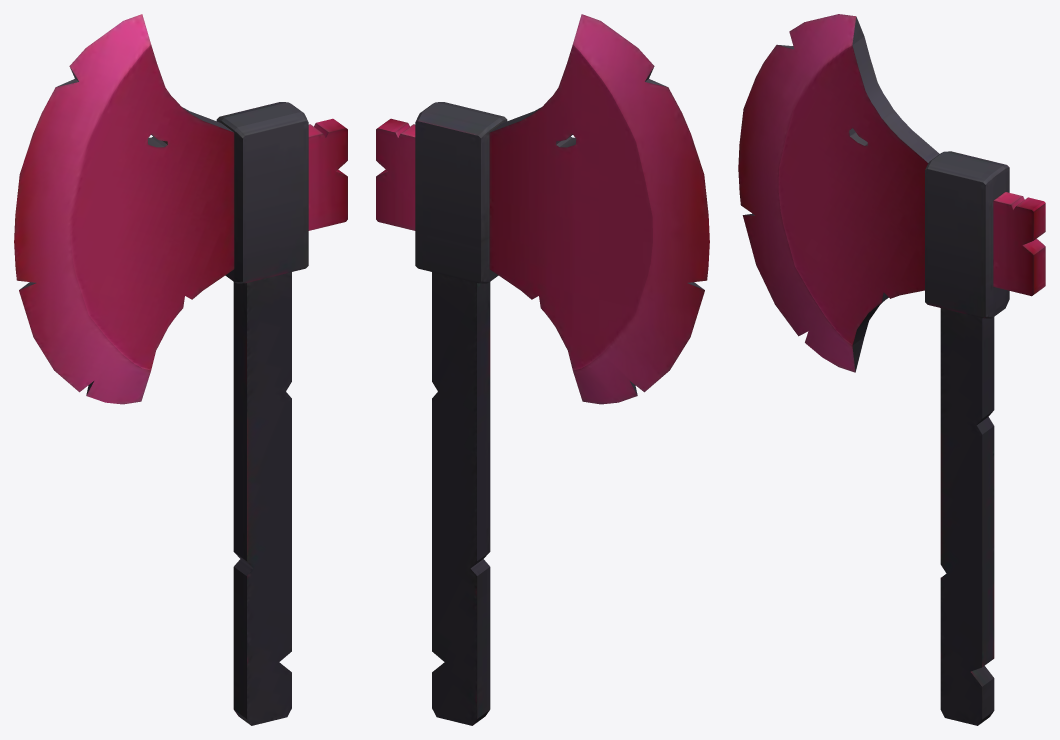
Rendered from espada_03.glb.
3 renders of one model, left to right at view 1: azimuth 30°, elevation 25°; view 2: azimuth 150°, elevation 25°; view 3: azimuth 330°, elevation 25°, orthographic. The views are drawn at different scales.
Visible parts, largest first — view 1: ASSET_3_OK_3_All_0; view 2: ASSET_3_OK_3_All_0; view 3: ASSET_3_OK_3_All_0.
Boxes of the visible parts, x1=… form: ASSET_3_OK_3_All_0: x1=14, y1=14, x2=347, y2=725; ASSET_3_OK_3_All_0: x1=376, y1=14, x2=709, y2=725; ASSET_3_OK_3_All_0: x1=738, y1=14, x2=1045, y2=725.
Bounding box in the file's own units: 2.88 × 6.17 × 0.3997.
Materials: 1 (1 with a texture image).
